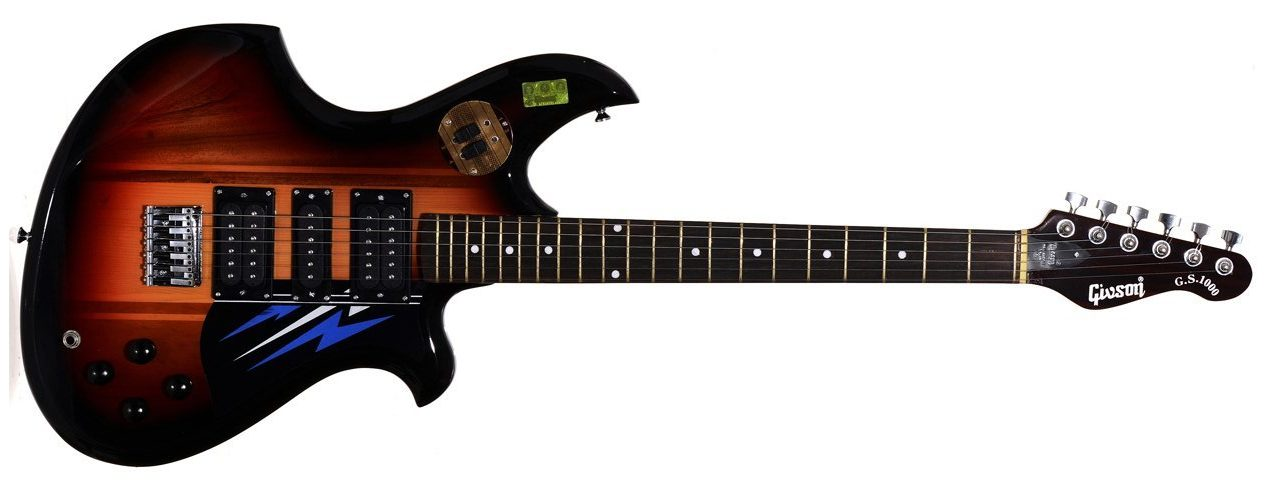ElectricGuitar: (28, 21, 1273, 454)
